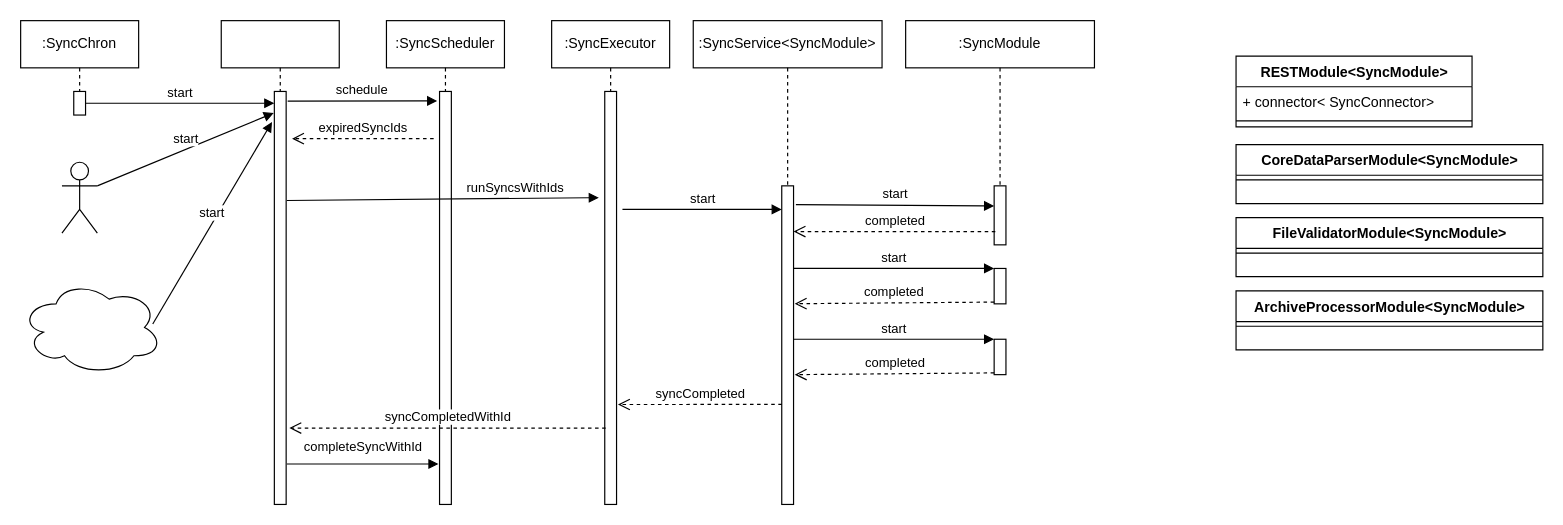
Some shapes in this 1563 by 525 pixel diagram are drawn without their labels. The shapes that lost their labels are listed below. From the top down, each one's centre as x and y in pixels, then its label:
At (279,55): ":SyncManager".
At (79,197): "Actor".
At (90,327): "Reachability change".
